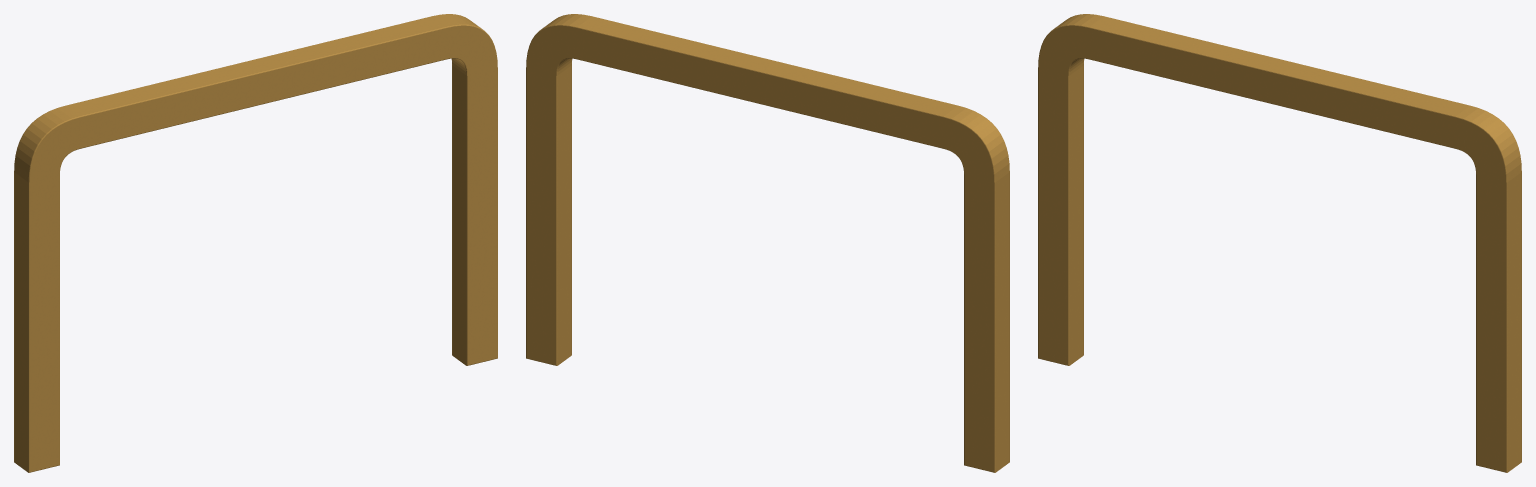
The model's file is structural-frame.glb.
3 renders of one model, left to right at view 1: azimuth 30°, elevation 25°; view 2: azimuth 150°, elevation 25°; view 3: azimuth 330°, elevation 25°, orthographic.
Parts seen in each view (by area): view 1: rounded_arch_frame; view 2: rounded_arch_frame; view 3: rounded_arch_frame.
Boxes of the visible parts, bbox=[...] form: rounded_arch_frame: bbox=[14, 14, 497, 472]; rounded_arch_frame: bbox=[526, 14, 1009, 472]; rounded_arch_frame: bbox=[1038, 14, 1521, 472].
Bounding box in the file's own units: 6.02 × 4.22 × 0.34.
Materials: 1 (1 with a texture image).
